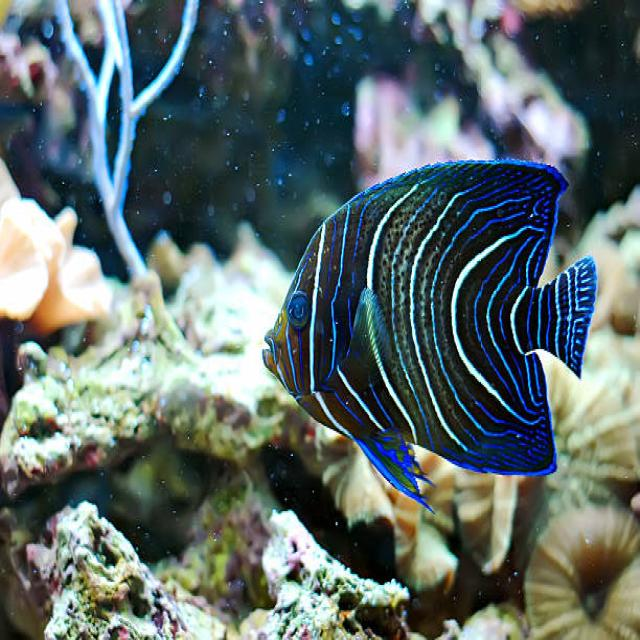AngelFish: (252, 156, 601, 507)
